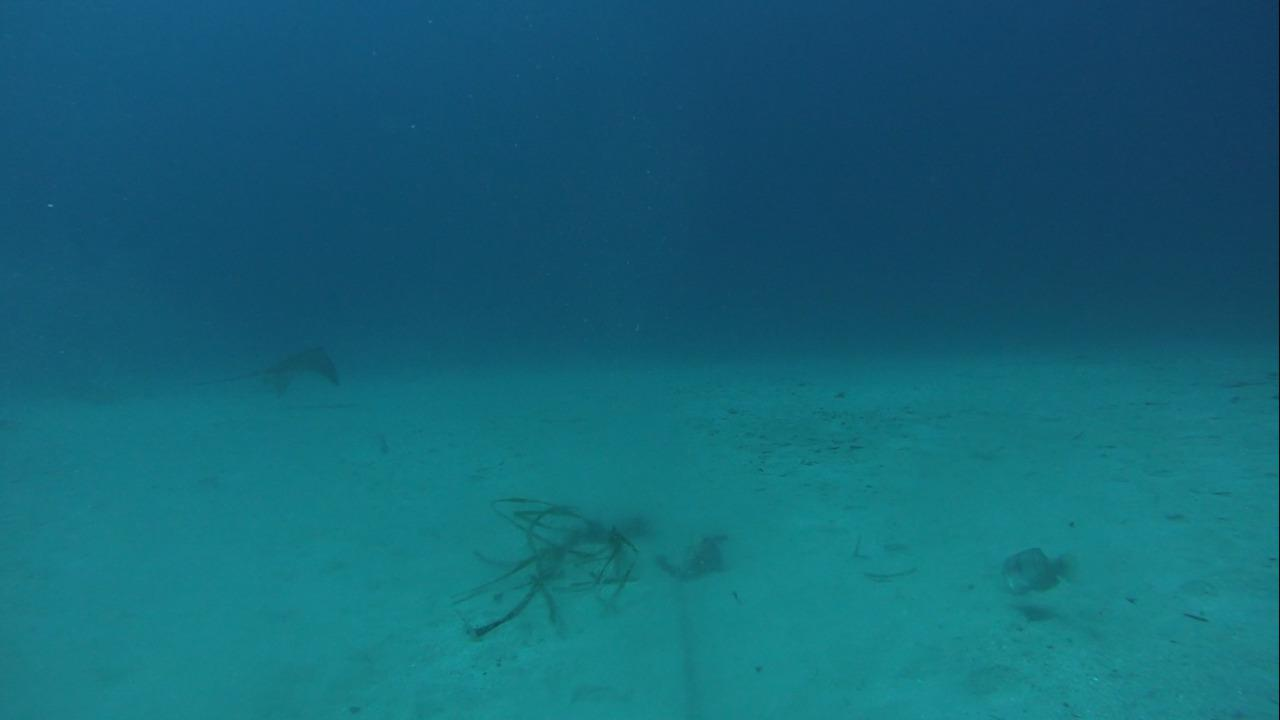myliobatis: (160, 333, 347, 406)
raor: (992, 541, 1077, 602)
